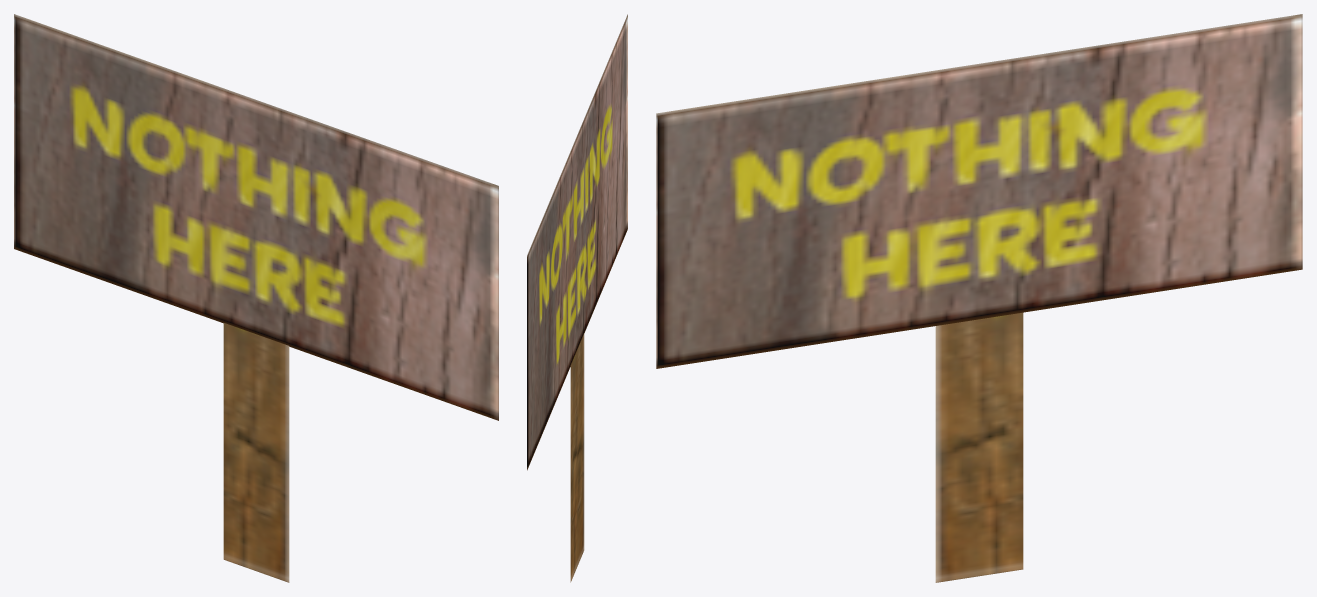
Rendered from wrongtway18.glb.
3 renders of one model, left to right at view 1: azimuth 30°, elevation 25°; view 2: azimuth 150°, elevation 25°; view 3: azimuth 270°, elevation 25°, orthographic. The views are drawn at different scales.
Visible parts, largest first — view 1: wrongtway18; view 2: wrongtway18; view 3: wrongtway18.
Part boxes in pixels (bbox=[...]): wrongtway18: bbox=[14, 14, 498, 582]; wrongtway18: bbox=[527, 14, 627, 582]; wrongtway18: bbox=[656, 14, 1302, 582].
Size of the model in its own units: 195 by 469 by 536.
1 material, 1 textured.
